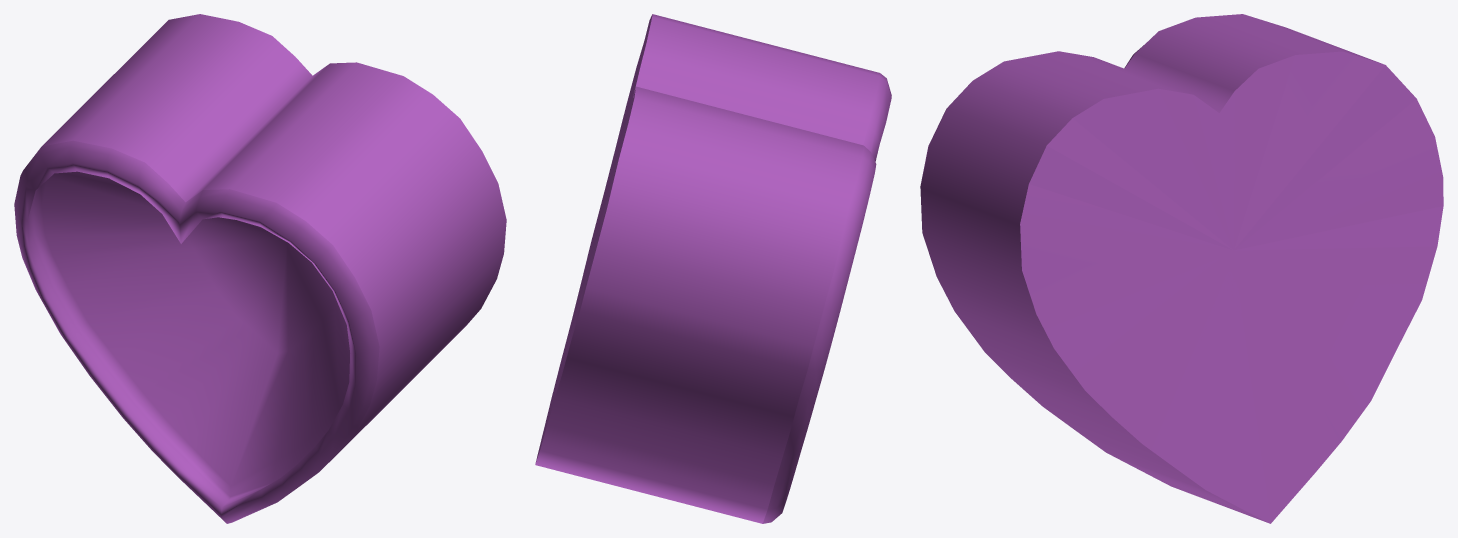
File: TL4_8shapes_heart_Classic_Metal.001 2.glb
3 views of the same model, side by side, from view 1: azimuth 30°, elevation 25°; view 2: azimuth 150°, elevation 25°; view 3: azimuth 270°, elevation 25° (orthographic). The views are drawn at different scales.
Parts seen in each view (by area): view 1: TL4_8shapes_heart_Classic_Metal.001; view 2: TL4_8shapes_heart_Classic_Metal.001; view 3: TL4_8shapes_heart_Classic_Metal.001.
Part boxes in pixels (x1=…): TL4_8shapes_heart_Classic_Metal.001: x1=14, y1=14, x2=506, y2=523; TL4_8shapes_heart_Classic_Metal.001: x1=535, y1=14, x2=891, y2=523; TL4_8shapes_heart_Classic_Metal.001: x1=920, y1=14, x2=1443, y2=523.
Bounding box in the file's own units: 0.5023 × 0.5958 × 0.6071.
